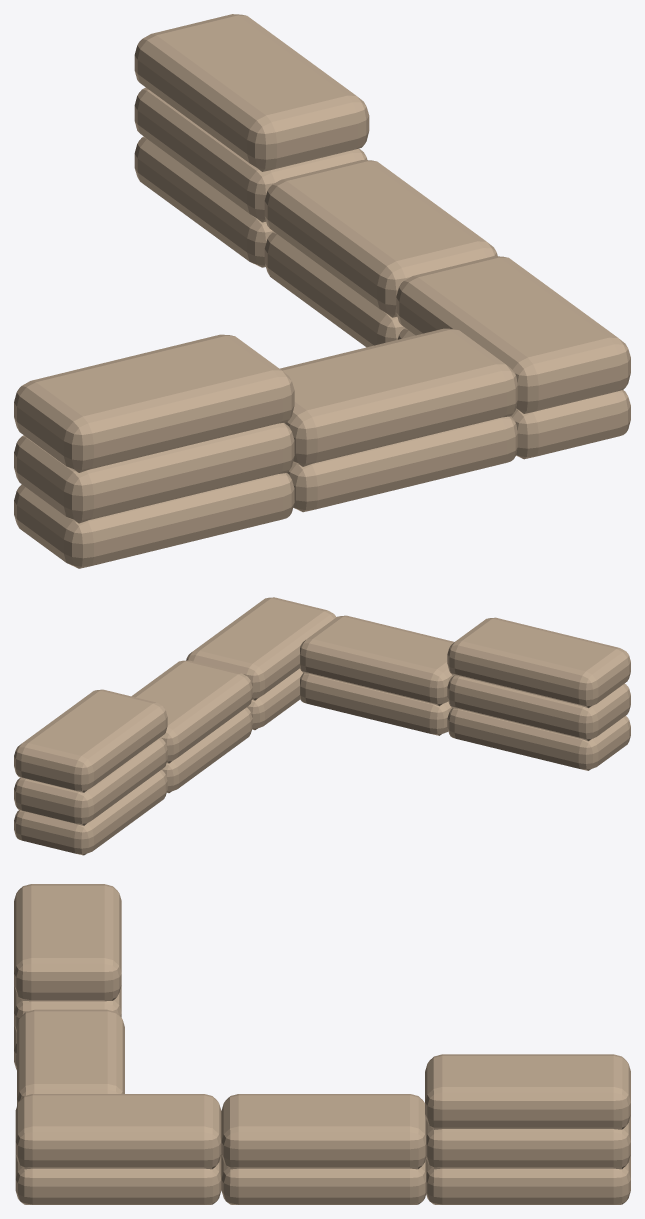
File: SandBarrierL1.fbx
3 renders of one model, top to bottom at view 1: azimuth 30°, elevation 25°; view 2: azimuth 150°, elevation 25°; view 3: azimuth 270°, elevation 25°, orthographic. The views are drawn at different scales.
Parts seen in each view (by area): view 1: SandBarrierL1; view 2: SandBarrierL1; view 3: SandBarrierL1.
Boxes of the visible parts, x1,y1,x2,y2 form: SandBarrierL1: (14, 14, 630, 568); SandBarrierL1: (14, 597, 630, 855); SandBarrierL1: (14, 884, 630, 1204).
Size of the model in its own units: 525 by 634 by 130.
